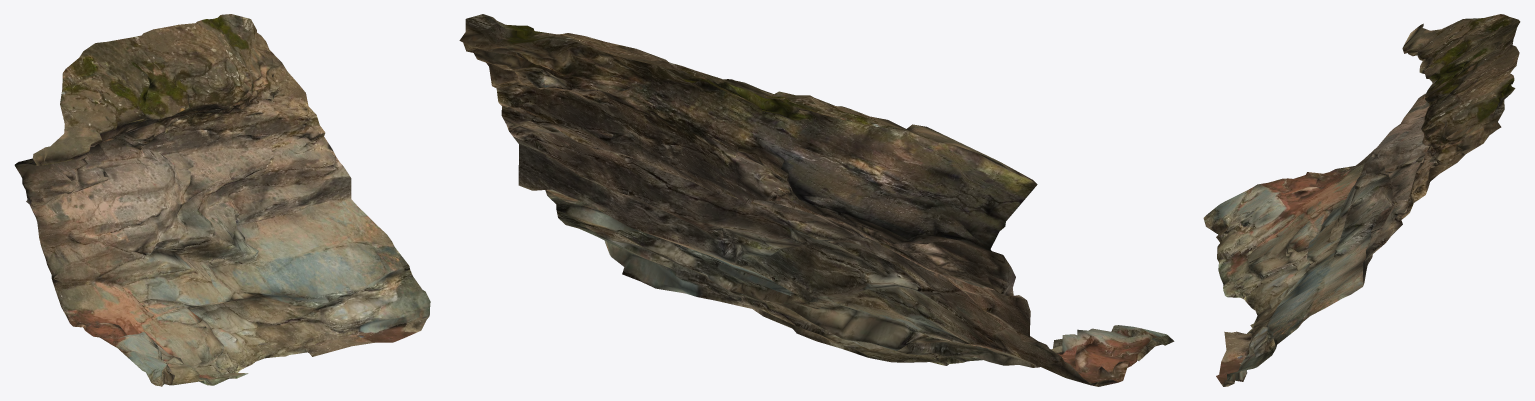
Rendered from rock_face_01.glb.
3 renders of one model, left to right at view 1: azimuth 30°, elevation 25°; view 2: azimuth 150°, elevation 25°; view 3: azimuth 270°, elevation 25°, orthographic. The views are drawn at different scales.
Parts seen in each view (by area): view 1: rock_face_01; view 2: rock_face_01; view 3: rock_face_01.
Part boxes in pixels (x1,y1,x2,y2): rock_face_01: [14, 14, 430, 386]; rock_face_01: [459, 14, 1174, 386]; rock_face_01: [1203, 14, 1520, 386].
Bounding box in the file's own units: 4.95 × 3.56 × 3.82.
1 material, 1 textured.
